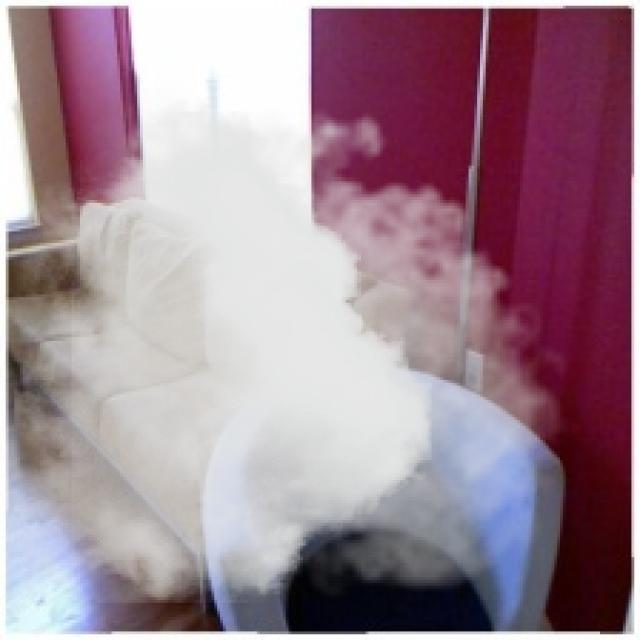Smoke: (14, 80, 580, 603)
